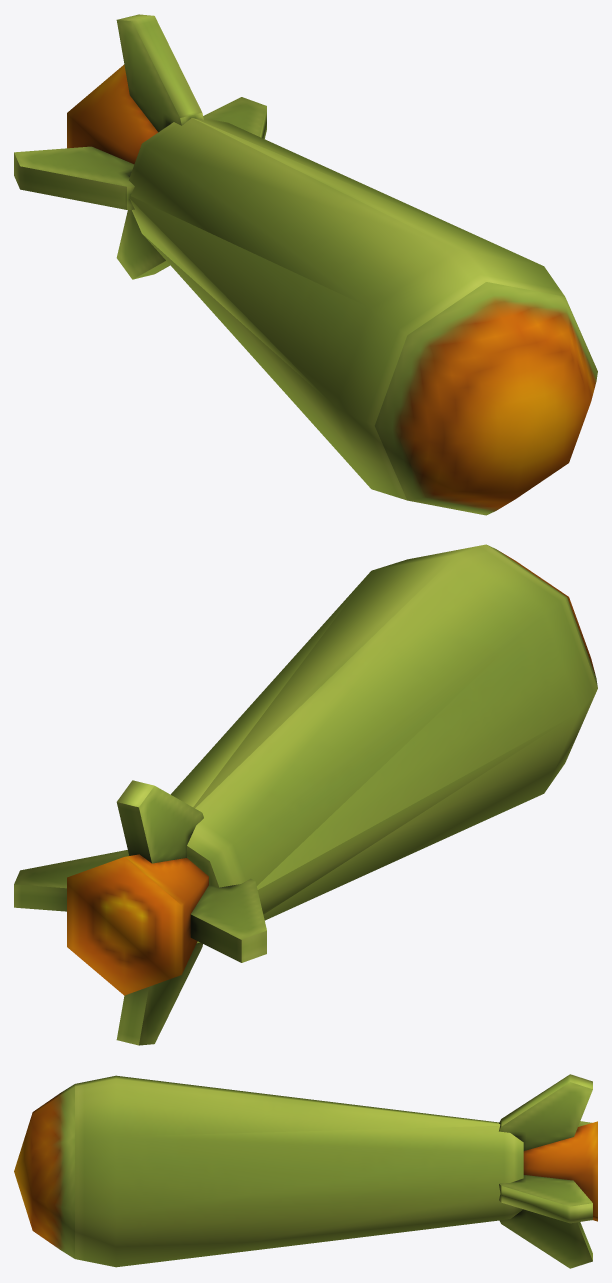
Rendered from DaoDan02.FBX.
3 views of the same model, one above another, from view 1: azimuth 30°, elevation 25°; view 2: azimuth 150°, elevation 25°; view 3: azimuth 270°, elevation 25° (orthographic). The views are drawn at different scales.
Parts seen in each view (by area): view 1: DaoDan02; view 2: DaoDan02; view 3: DaoDan02.
Part boxes in pixels (x1,y1,x2,y2): DaoDan02: [14, 14, 597, 515]; DaoDan02: [14, 544, 597, 1045]; DaoDan02: [14, 1074, 597, 1268].
Bounding box in the file's own units: 32.64 × 92.5 × 32.64.
